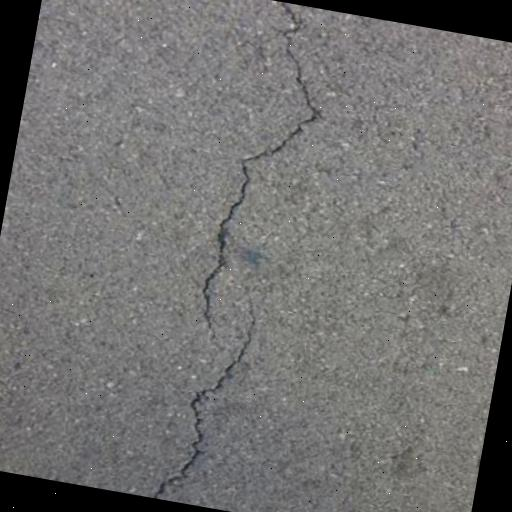spalling: (176, 0, 341, 310), (139, 307, 272, 499)
